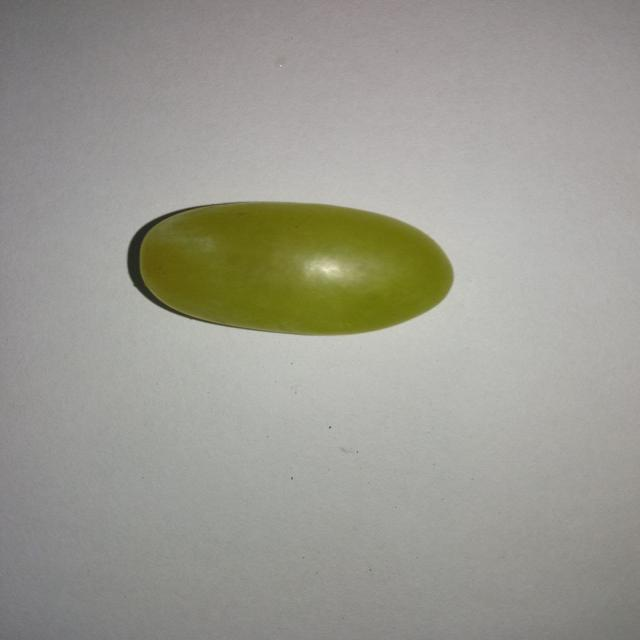fresh_grape: (138, 200, 453, 334)
